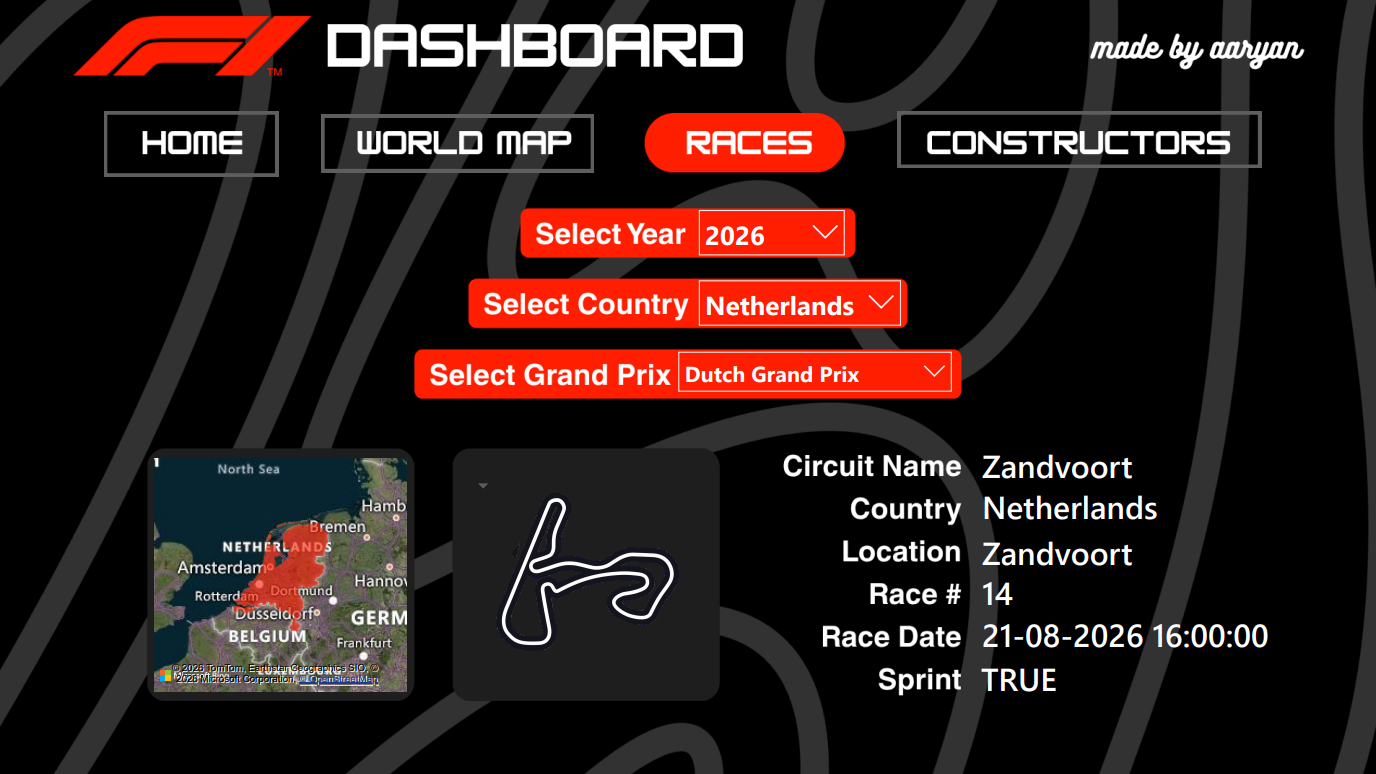

The page's visual inventory and layout, read from the dashboard file:
{"tool":"powerbi","page":{"name":"Page 3","canvas":[1280,720],"ordinal":2},"visuals":[{"type":"slicer","fields":{"Values":["Master_Meetings.year"]},"box":[639.7,185.4,155.7,64.3],"z":0},{"type":"slicer","fields":{"Values":["Master_Meetings.country_name_display"]},"box":[640,250,207.2,63.6],"z":1000},{"type":"slicer","fields":{"Values":["Master_Meetings.meeting_name_clean"]},"box":[620.9,316.3,273.3,64],"z":2000},{"type":"filledMap","fields":{"Category":["Master_Meetings.country_name_display"]},"box":[141.9,419.8,243,225.6],"z":3000},{"type":"cardVisual","fields":{"Data":["Min(Master_Meetings.circuit_display)"]},"box":[895,405,373.8,47.5],"z":4000},{"type":"cardVisual","fields":{"Data":["Min(Master_Meetings.country_name_display)"]},"box":[895,443.8,373.8,47.5],"z":5000},{"type":"cardVisual","fields":{"Data":["Min(Master_Meetings.location_display)"]},"box":[895,485,373.8,47.5],"z":6000},{"type":"cardVisual","fields":{"Data":["Sum(Master_Meetings.race_number)"]},"box":[895,522.5,373.8,47.5],"z":7000},{"type":"cardVisual","fields":{"Data":["Min(Master_Meetings.date_start)"]},"box":[895,561.2,373.8,47.5],"z":8000},{"type":"cardVisual","fields":{"Data":["Master_Meetings.SprintBool2"]},"box":[894.2,602.6,373.8,47.5],"z":9000},{"type":"pivotTable","fields":{"Rows":["Master_Meetings.circuit_image"]},"box":[435.7,424.3,224.3,211.4],"z":10000},{"type":"actionButton","box":[100,104.1,160.9,59.5],"z":11000},{"type":"actionButton","box":[834,104,336,52],"z":12000},{"type":"actionButton","box":[301.4,106.8,251.4,52.7],"z":13000}]}

Visuals, with their boxes in screenshot pixels (x1, y1, x2, y2), scaled from the page's 1280x720 canvas onto the 1376x774 screenshot:
slicer - Master_Meetings.year: 688:199:855:268
slicer - Master_Meetings.country_name_display: 688:269:911:337
slicer - Master_Meetings.meeting_name_clean: 667:340:961:409
filledMap - Master_Meetings.country_name_display: 153:451:414:694
cardVisual - Min(Master_Meetings.circuit_display): 962:435:1364:486
cardVisual - Min(Master_Meetings.country_name_display): 962:477:1364:528
cardVisual - Min(Master_Meetings.location_display): 962:521:1364:572
cardVisual - Sum(Master_Meetings.race_number): 962:562:1364:613
cardVisual - Min(Master_Meetings.date_start): 962:603:1364:654
cardVisual - Master_Meetings.SprintBool2: 961:648:1363:699
pivotTable - Master_Meetings.circuit_image: 468:456:710:683
actionButton: 108:112:280:176
actionButton: 897:112:1258:168
actionButton: 324:115:594:171
